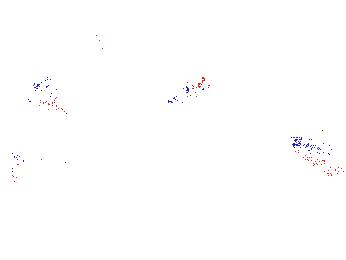X-ray fish: (28, 75, 103, 119)
red belly glassfish: (165, 75, 211, 106), (4, 98, 30, 115)
redtail glassfish: (285, 129, 346, 179)
